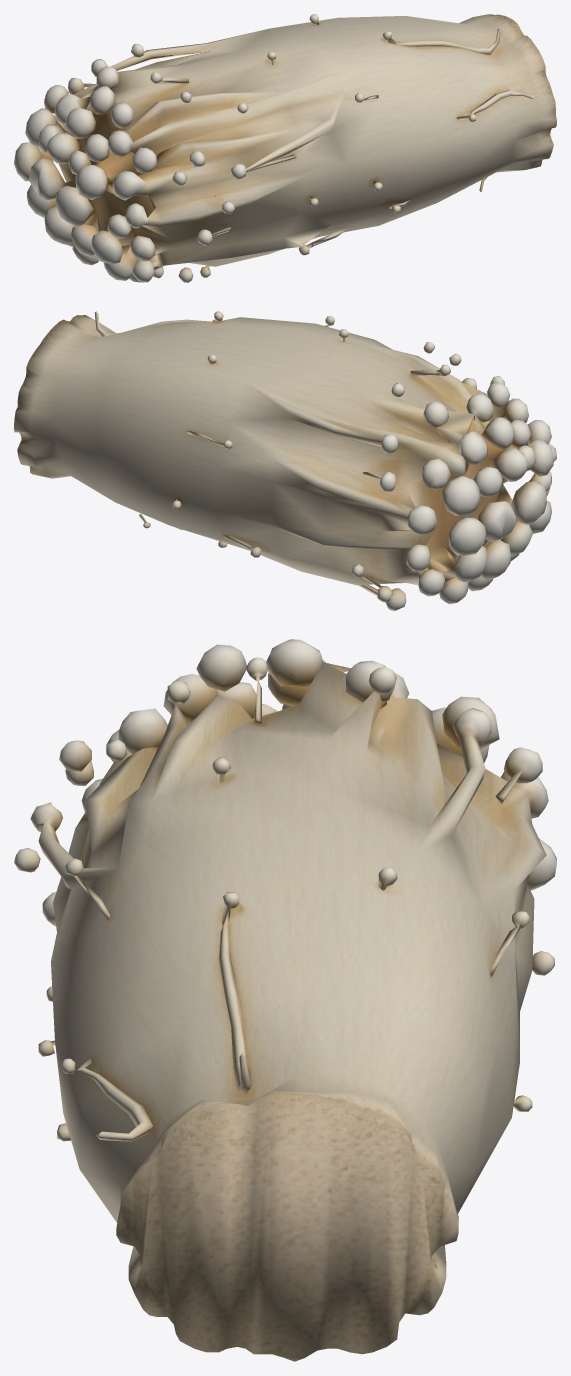
Rendered from optimized_glb.glb.
The picture shows the model from 3 angles, top to bottom: view 1: azimuth 30°, elevation 25°; view 2: azimuth 150°, elevation 25°; view 3: azimuth 270°, elevation 25°; orthographic projection. The views are drawn at different scales.
Parts seen in each view (by area): view 1: Enoki Mushroom; view 2: Enoki Mushroom; view 3: Enoki Mushroom.
Boxes of the visible parts, left/top/right/bottom form: Enoki Mushroom: left=14, top=14, right=556, bottom=282; Enoki Mushroom: left=14, top=311, right=556, bottom=610; Enoki Mushroom: left=14, top=639, right=556, bottom=1361.
Size of the model in its own units: 0.998 by 0.4551 by 0.5176.
Materials: 1 (1 with a texture image).
